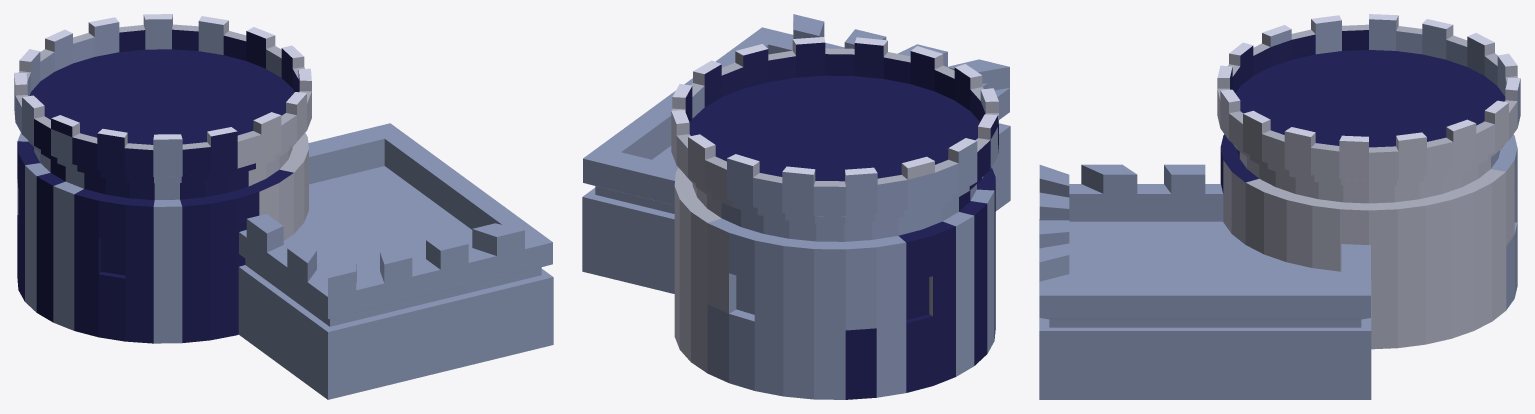
Rendered from fortress.gltf.
The picture shows the model from 3 angles, left to right: view 1: azimuth 30°, elevation 25°; view 2: azimuth 150°, elevation 25°; view 3: azimuth 270°, elevation 25°; orthographic projection. The views are drawn at different scales.
Visible parts, largest first — view 1: Cylinder, Cube; view 2: Cylinder, Cube; view 3: Cylinder, Cube.
Part boxes in pixels (x1,y1,x2,y2): Cylinder: (14,14,311,343); Cube: (238,123,553,399); Cylinder: (671,37,998,399); Cube: (582,14,1010,293); Cylinder: (1217,14,1520,349); Cube: (1039,164,1371,399).
Bounding box in the file's own units: 11.03 × 6.05 × 12.64.
